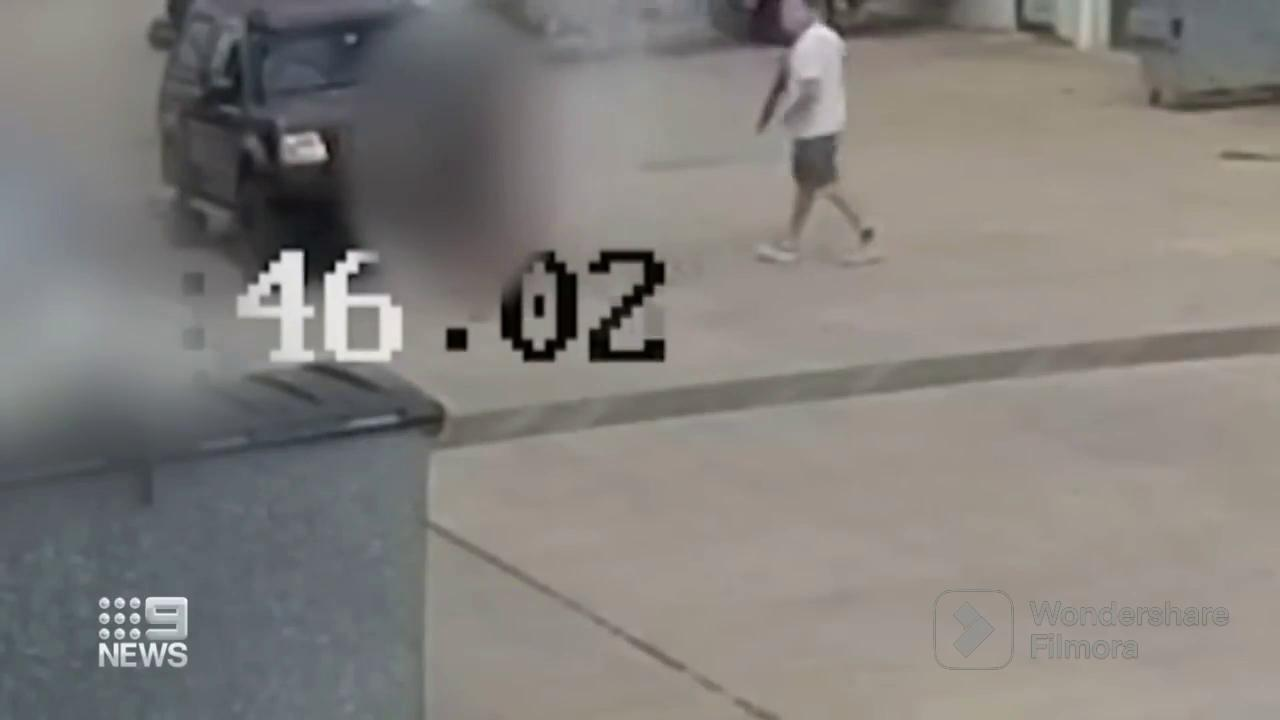gun: (754, 64, 792, 134)
